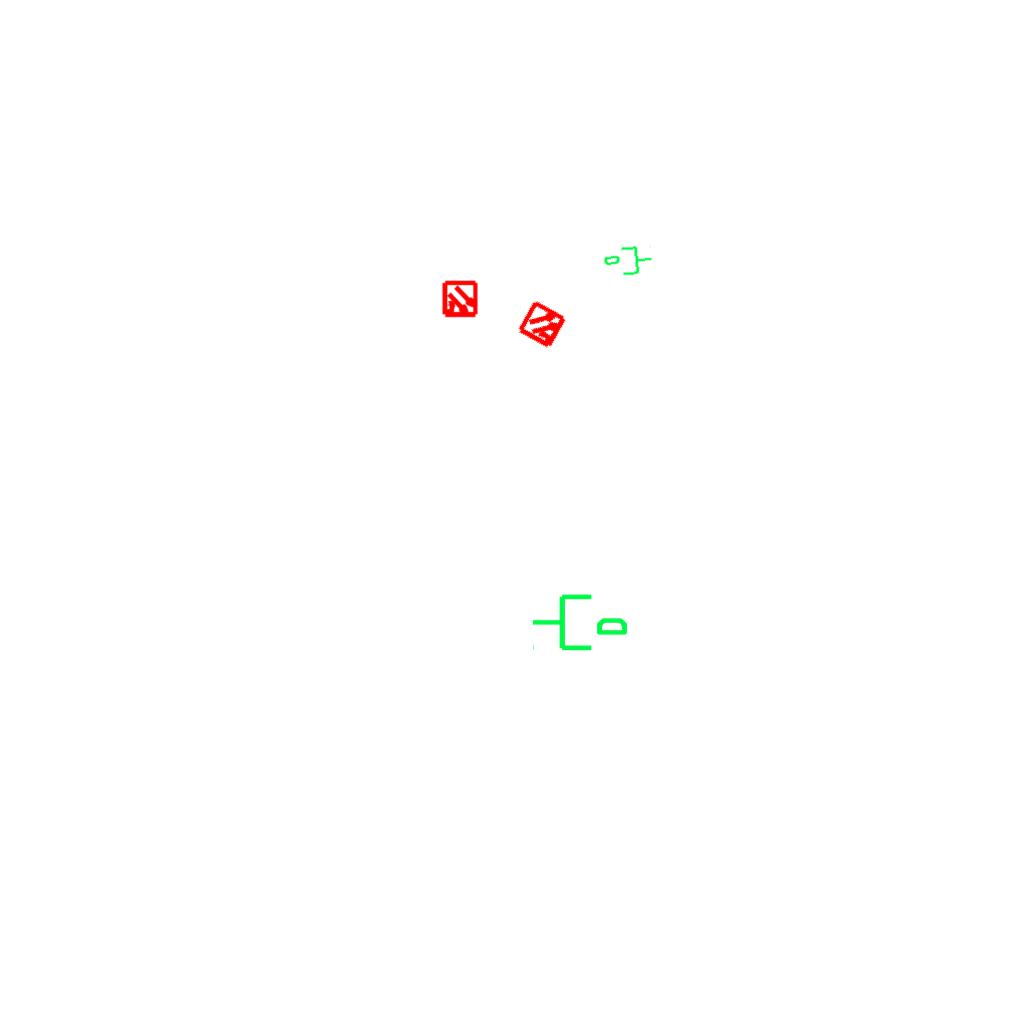Datenanschluss_einfach: (530, 586, 630, 655), (601, 242, 655, 282)
OT_Multisensormelder_(Kombination_RMO_WMD): (504, 286, 582, 364), (432, 272, 488, 328)
